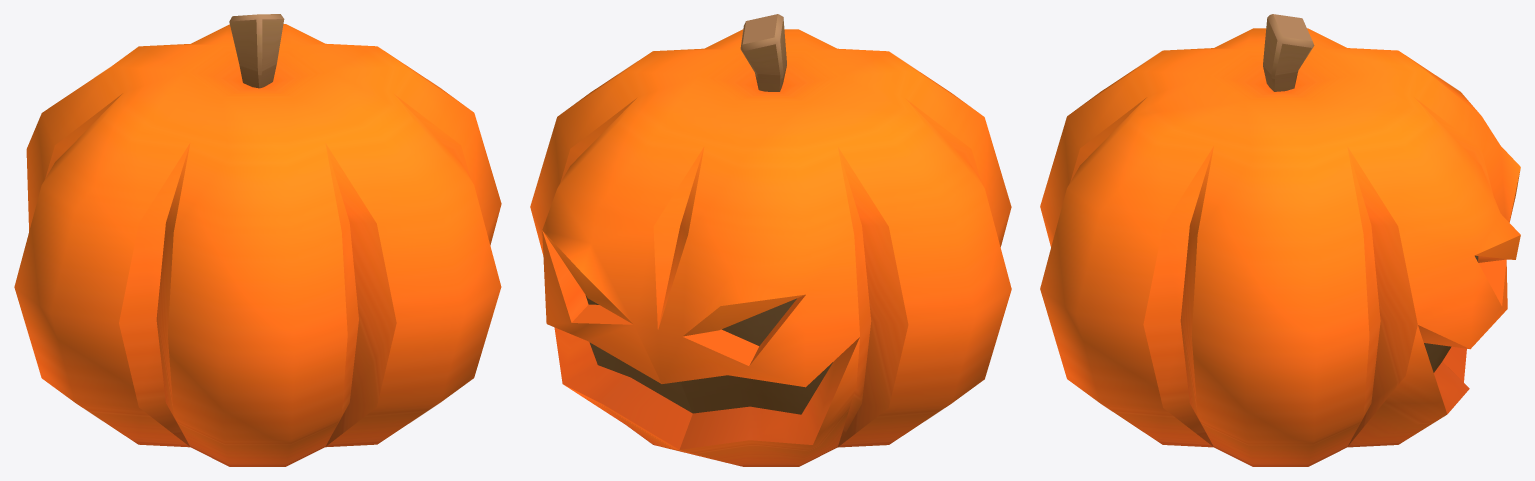
The model's file is pumpkin.glb.
3 renders of one model, left to right at view 1: azimuth 30°, elevation 25°; view 2: azimuth 150°, elevation 25°; view 3: azimuth 270°, elevation 25°, orthographic.
Parts seen in each view (by area): view 1: pumpkin_body; view 2: pumpkin_body; view 3: pumpkin_body.
Part boxes in pixels (box(x1,y1,x2,y2)): pumpkin_body: box(14, 14, 501, 466); pumpkin_body: box(530, 14, 1011, 466); pumpkin_body: box(1040, 14, 1520, 466).
Bounding box in the file's own units: 1.04 × 0.9 × 0.9692.
1 material, 1 textured.
